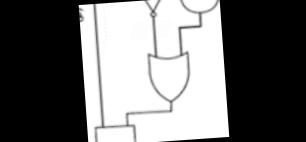and: (90, 120, 138, 142), (176, 0, 220, 18)
not: (129, 0, 174, 21)
or: (143, 48, 193, 108)
